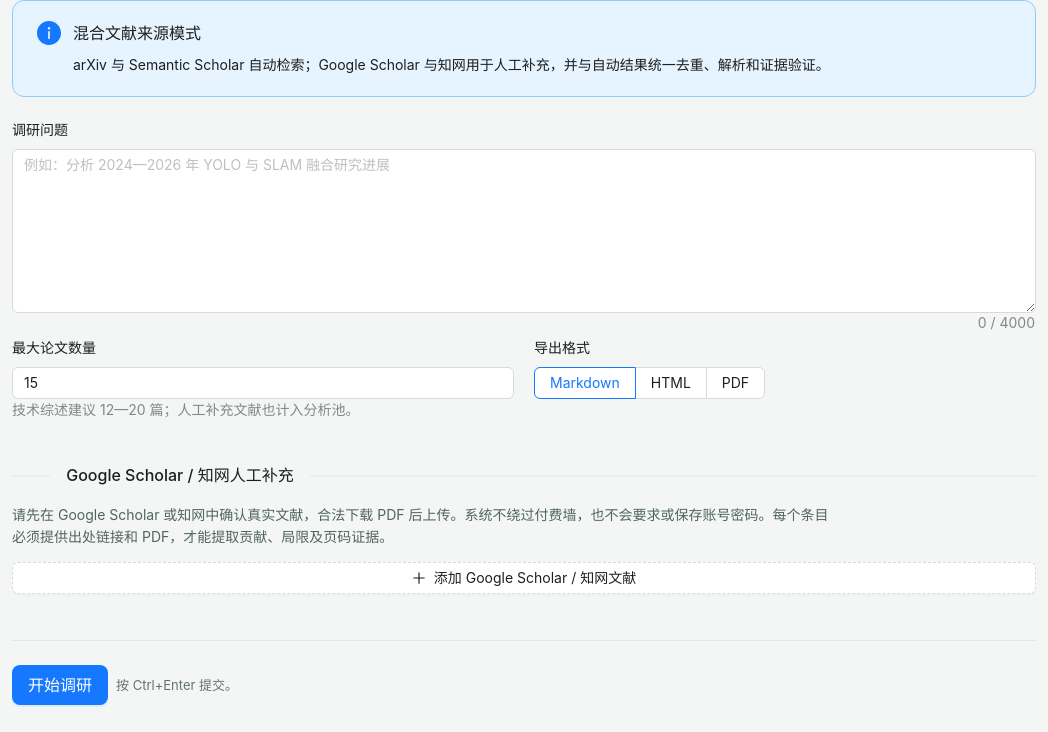
Test case: ResearchForm › maps network errors to API unavailable
Type "Evidence research question" into the text box labelled "调研问题" at (524, 231), box [13,150,1035,312]
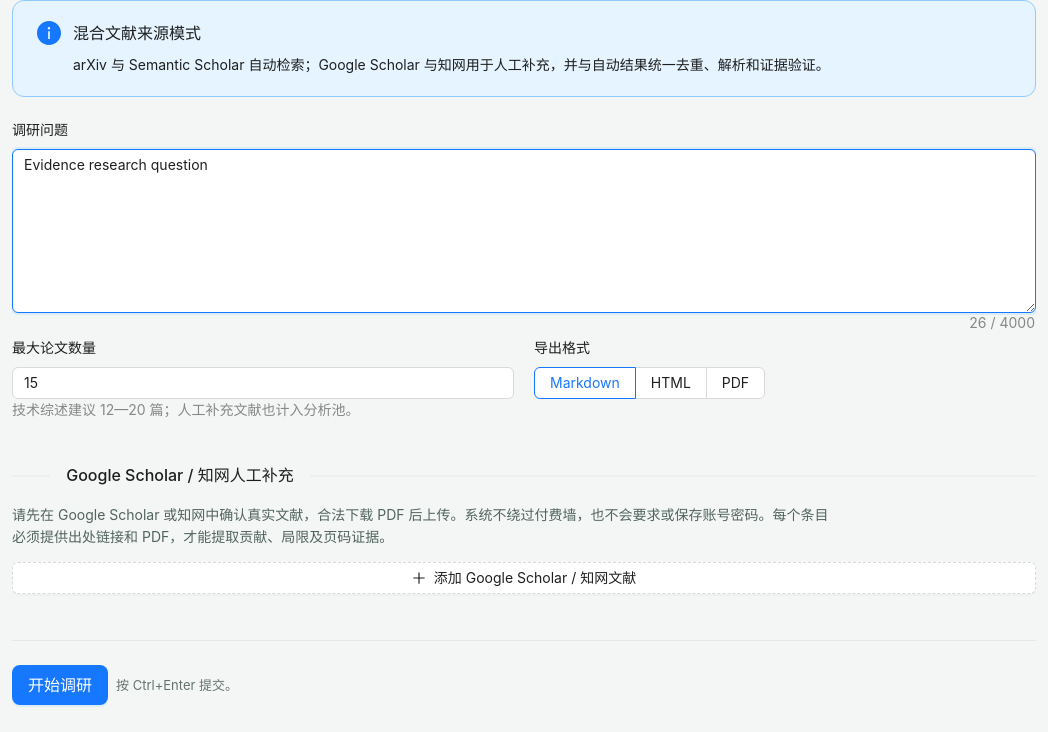
Click the button "开始调研" at (60, 685), box [12,665,108,705]
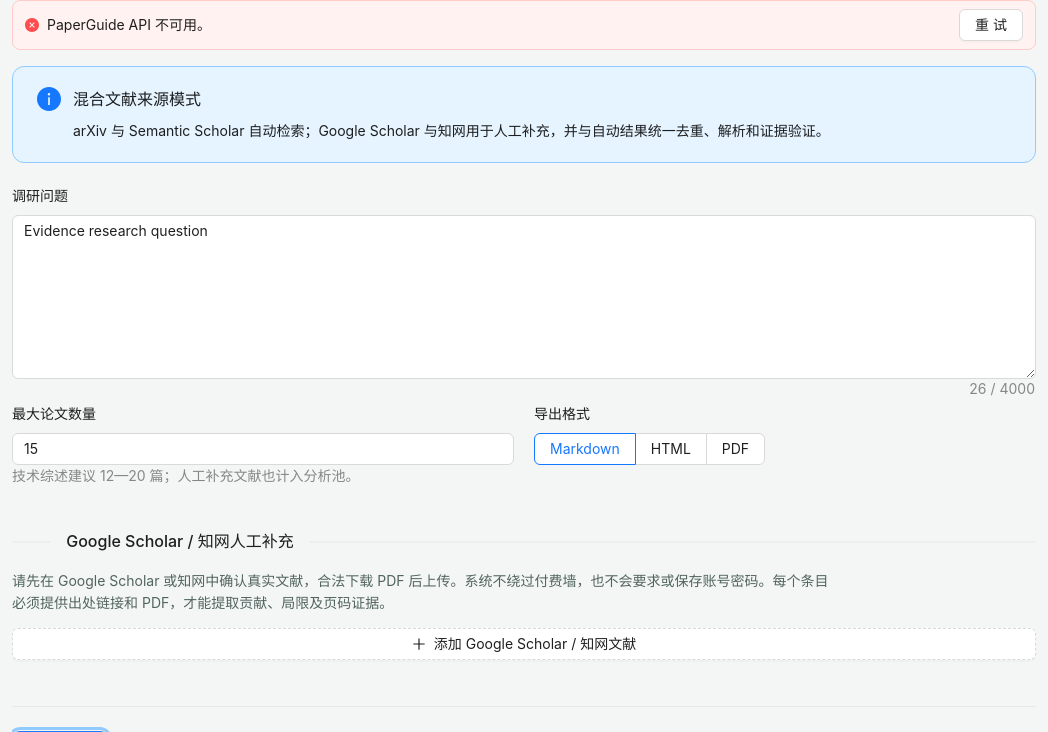
Check: the text "PaperGuide API 不可用。" is shown, box [47,16,211,33]
